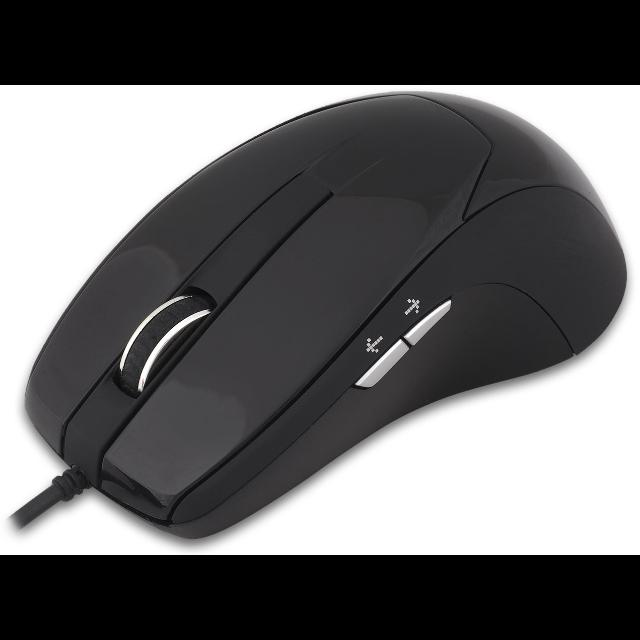Computer-Mouse: (24, 91, 630, 542)
